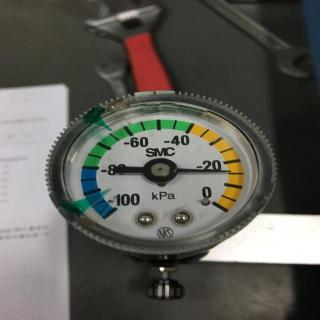gauge: (42, 91, 290, 265), (142, 156, 178, 186), (200, 190, 228, 214), (99, 198, 125, 222), (223, 167, 232, 175)
